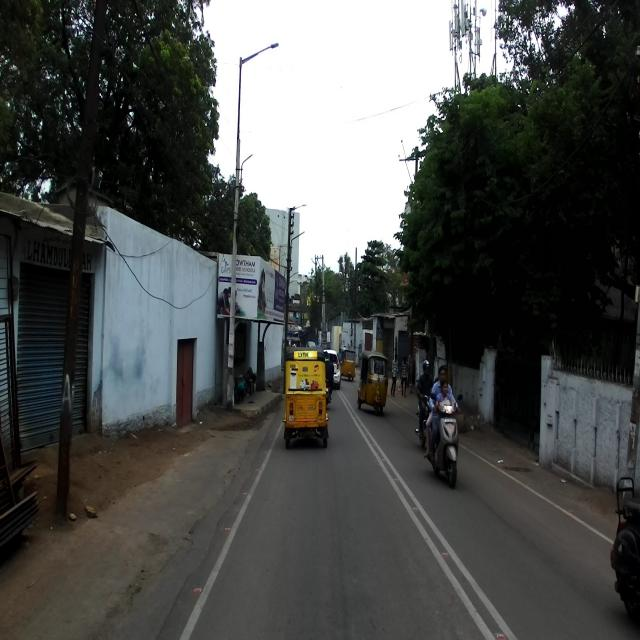scooter: (606, 474, 640, 628), (424, 391, 463, 488)
